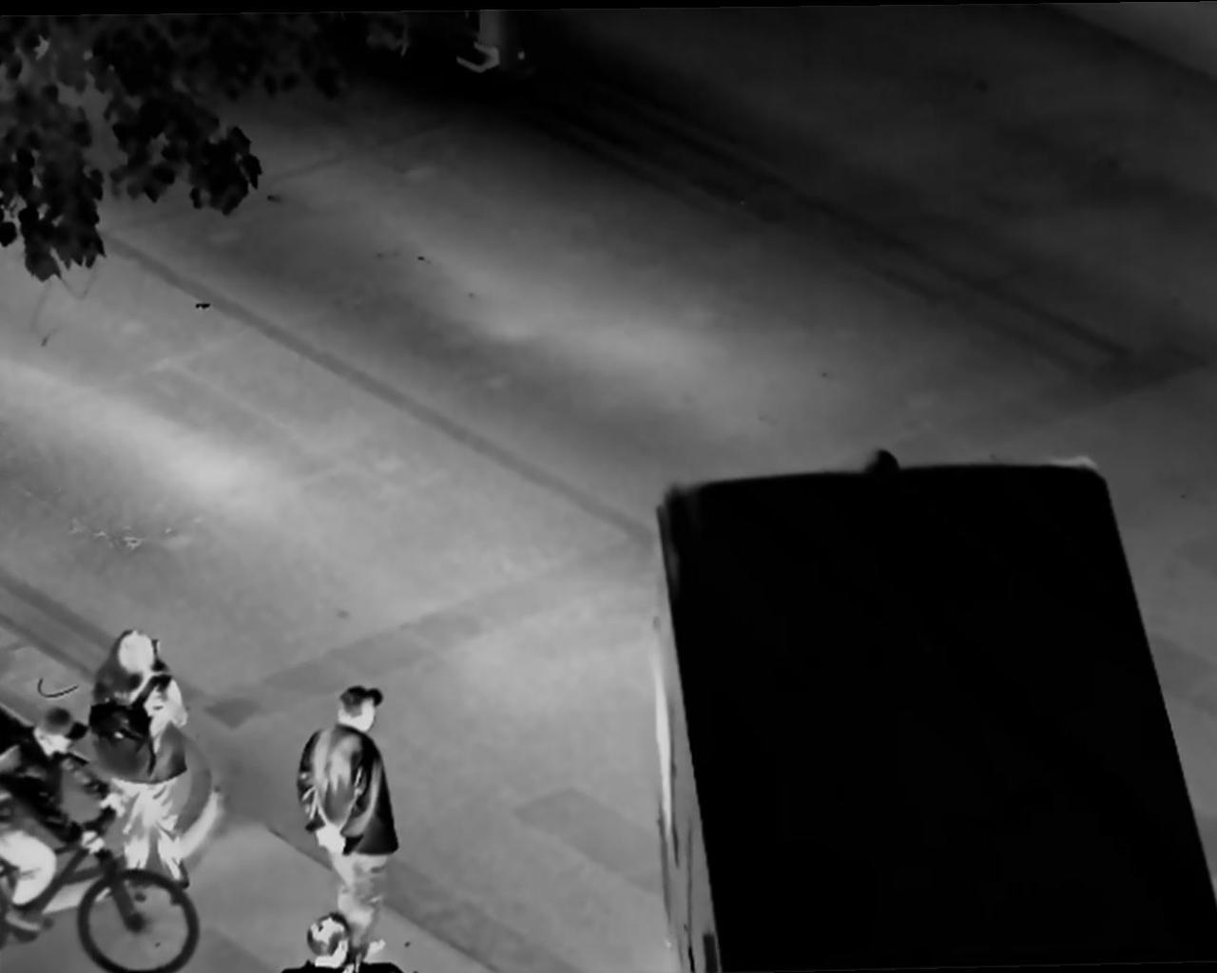person: (86, 624, 211, 890), (283, 681, 412, 934), (289, 920, 403, 973)
